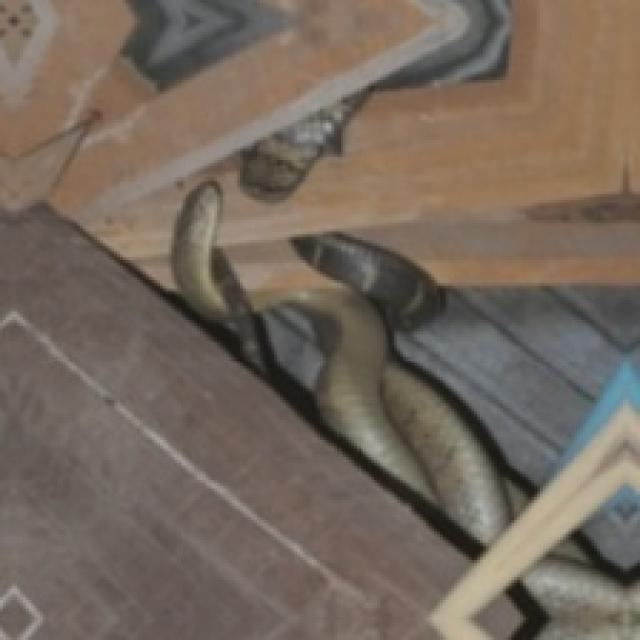king cobra: (171, 180, 637, 637)
